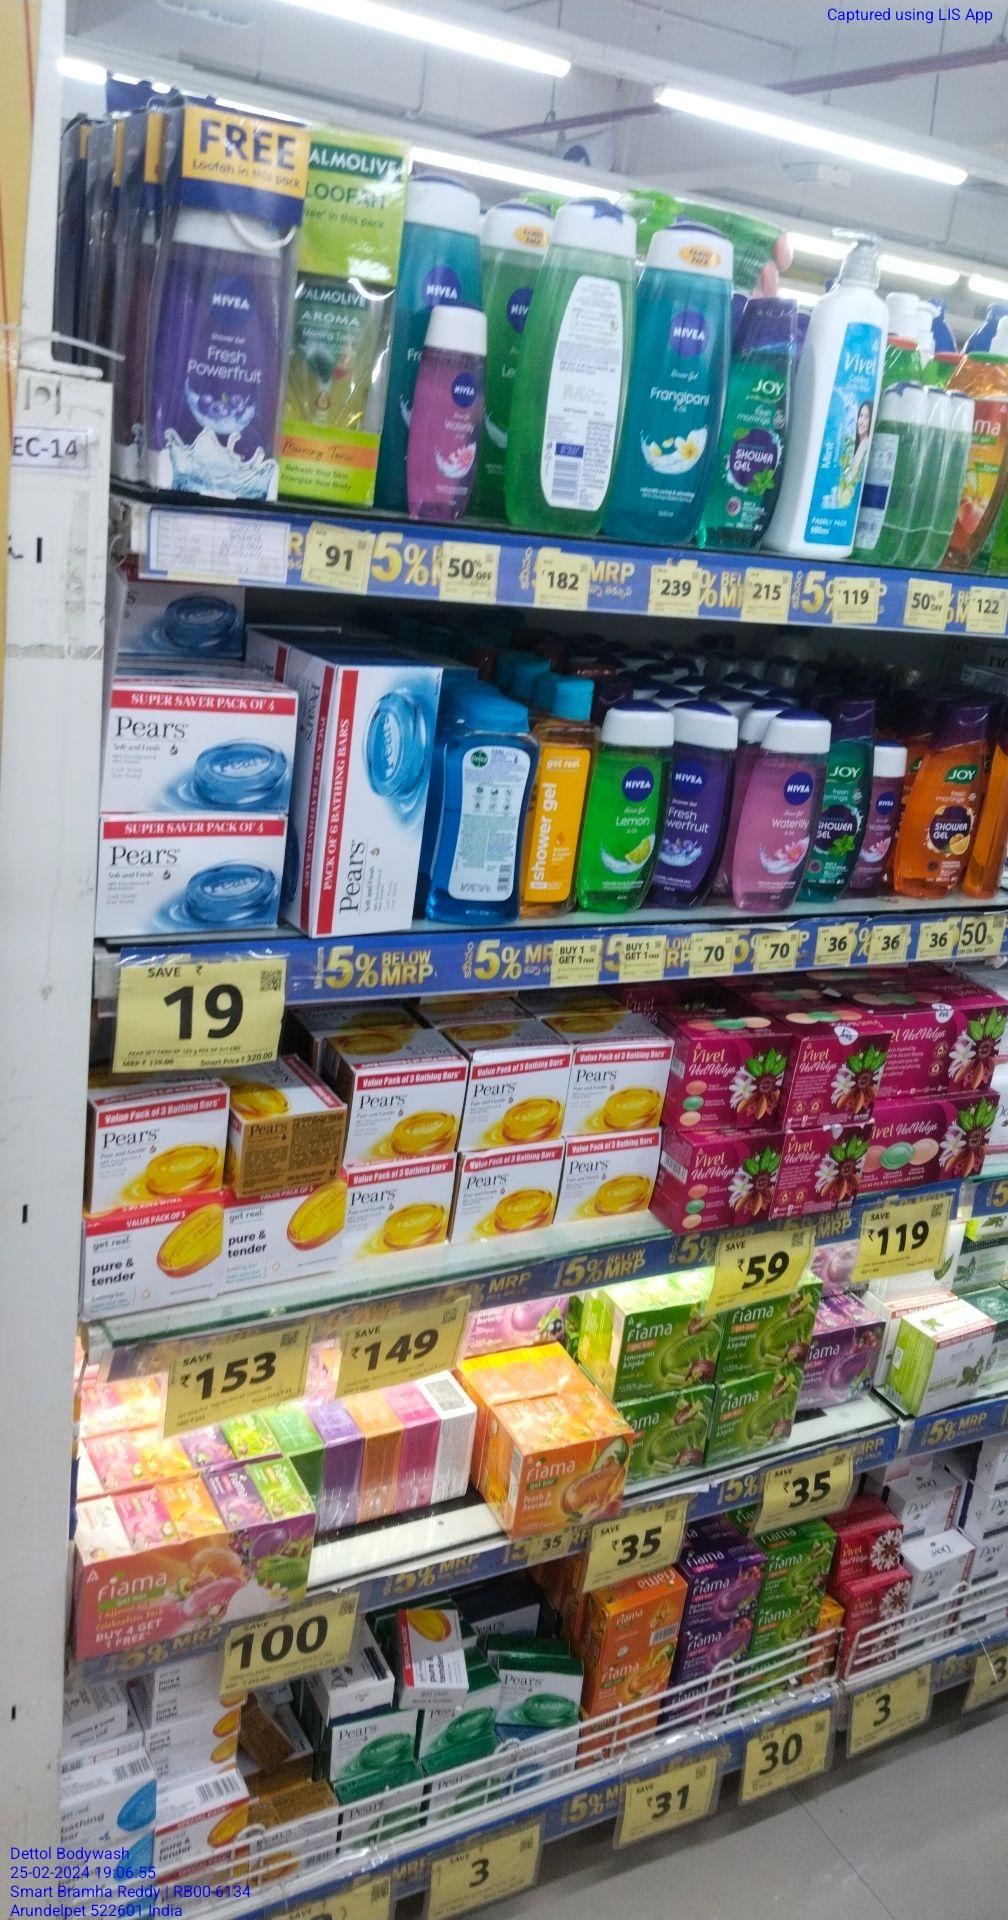Joy_Shower_Gel_Mandarin_and_Lemongrass_250ML: (912, 701, 986, 904)
Joy_Shower_Gel_Mint_and_Eucalyptus_250ML: (825, 707, 879, 907)
Nivea_Shower_Gel_Frangipani_and_Oil_250ML: (633, 215, 722, 542)
Nivea_Shower_Gel_Fresh_Powerfruit_250ML: (672, 703, 730, 909)
Nivea_Shower_Gel_Waterlily_and_Oil_250ML: (739, 714, 823, 909), (587, 707, 661, 909)
